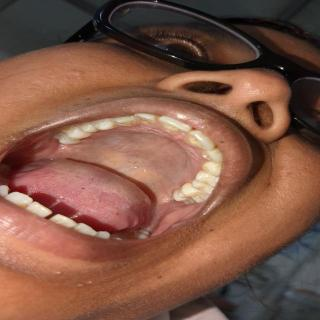maligned: (132, 111, 162, 131)
stains: (196, 149, 231, 162), (160, 118, 188, 134), (182, 135, 212, 147), (194, 162, 224, 174), (113, 120, 142, 129), (136, 115, 162, 125), (103, 121, 125, 131), (197, 169, 215, 180), (87, 125, 106, 135)
